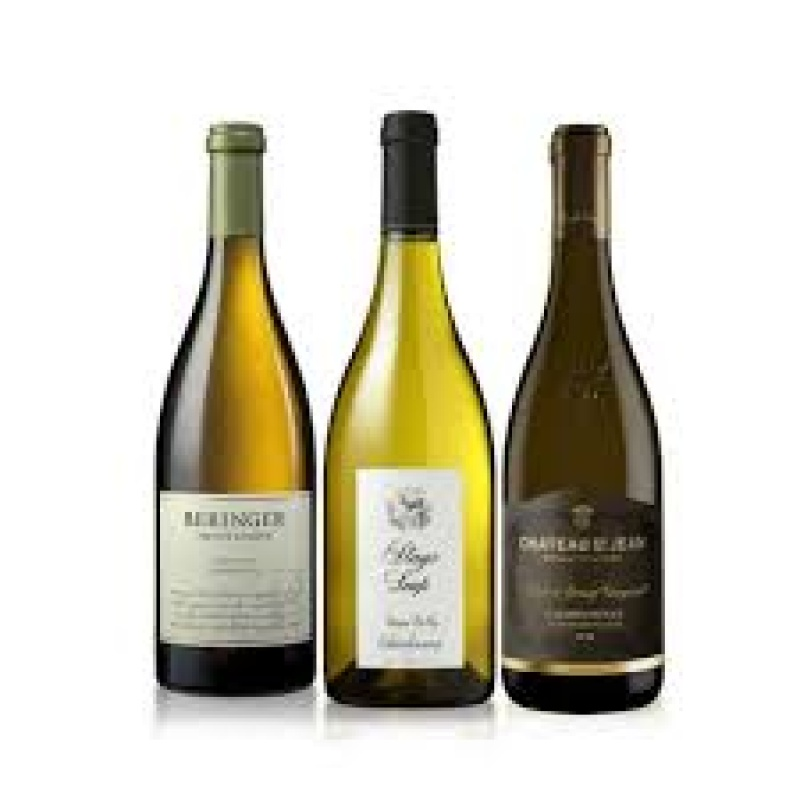wine: (327, 108, 502, 707), (506, 107, 673, 704), (142, 121, 314, 698)
